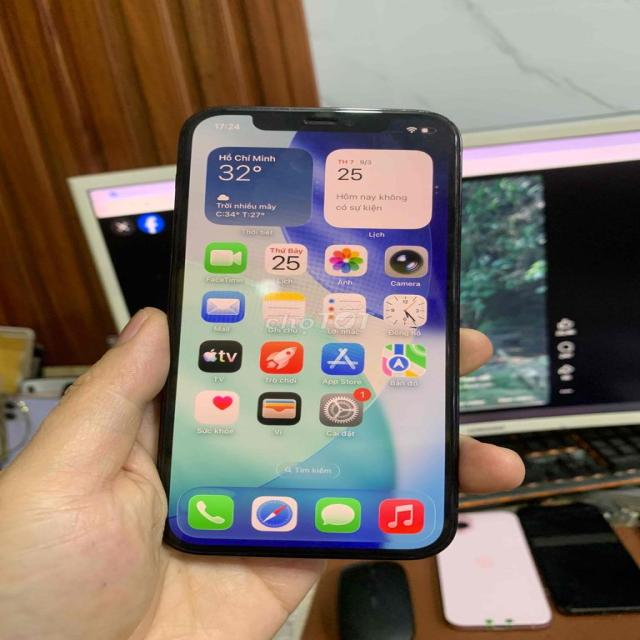gen_12_13: (138, 93, 472, 570)
